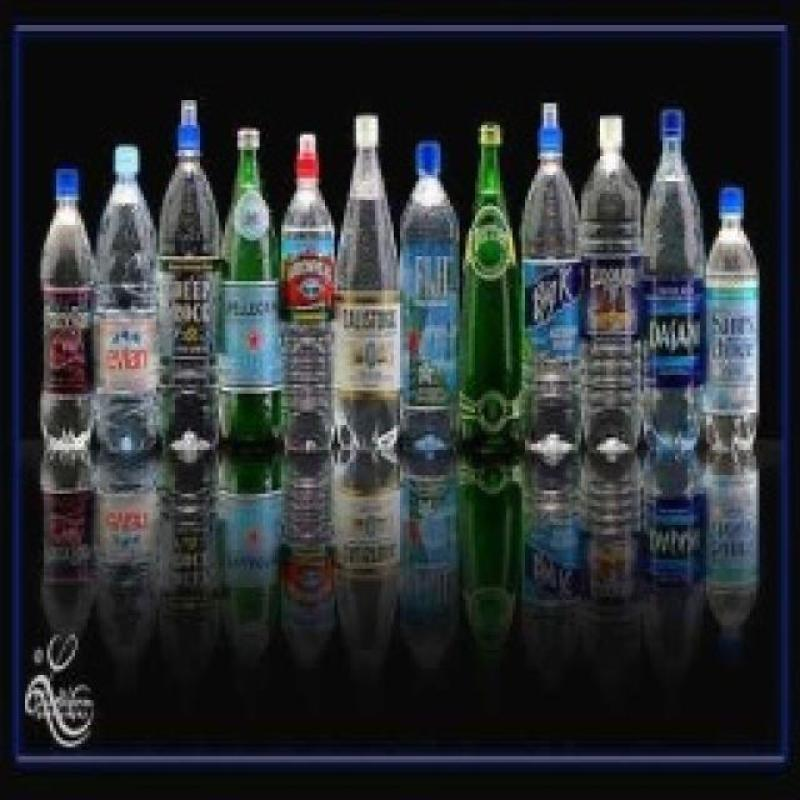botella: (518, 100, 584, 462), (156, 95, 222, 457), (641, 111, 707, 454), (332, 112, 398, 450), (580, 114, 642, 458), (91, 143, 157, 459), (398, 144, 458, 454), (279, 129, 333, 452), (701, 188, 761, 457), (38, 169, 92, 450)
